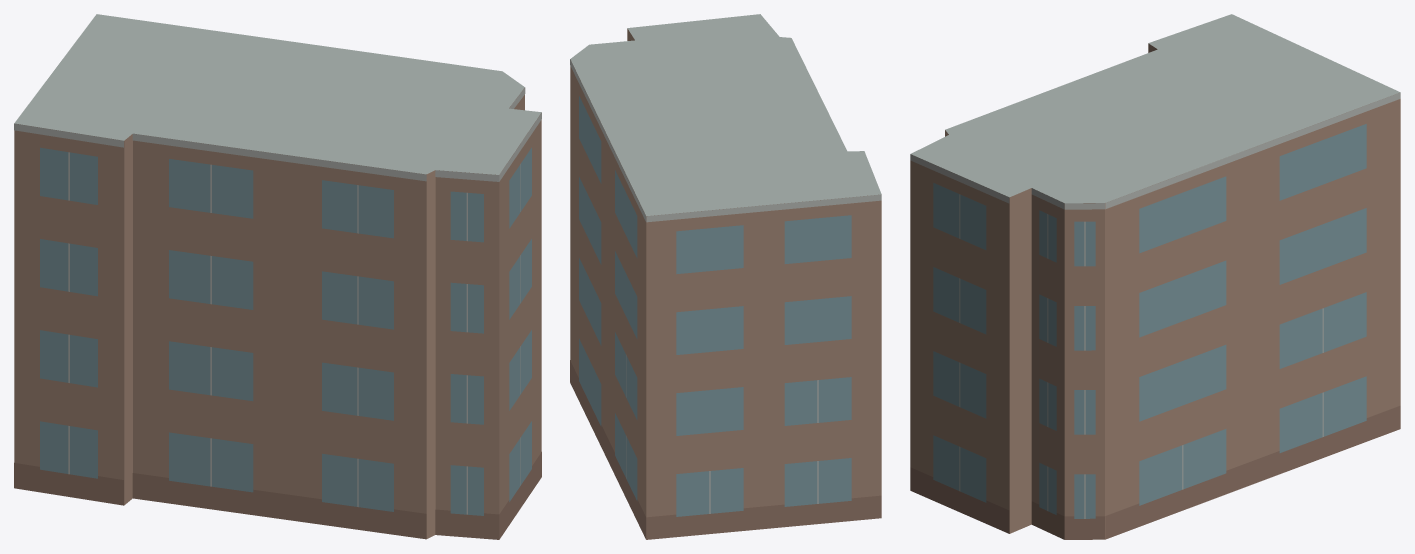
File: survey-upis-32627148.glb
The picture shows the model from 3 angles, left to right: view 1: azimuth 30°, elevation 25°; view 2: azimuth 150°, elevation 25°; view 3: azimuth 270°, elevation 25°; orthographic projection. The views are drawn at different scales.
Parts seen in each view (by area): view 1: survey-upis-32627148.tmp; view 2: survey-upis-32627148.tmp; view 3: survey-upis-32627148.tmp.
Boxes of the visible parts, <box> form: survey-upis-32627148.tmp: <box>14,14,541,539</box>; survey-upis-32627148.tmp: <box>570,14,881,539</box>; survey-upis-32627148.tmp: <box>910,14,1400,539</box>.
Size of the model in its own units: 15.44 by 12.8 by 16.9.
